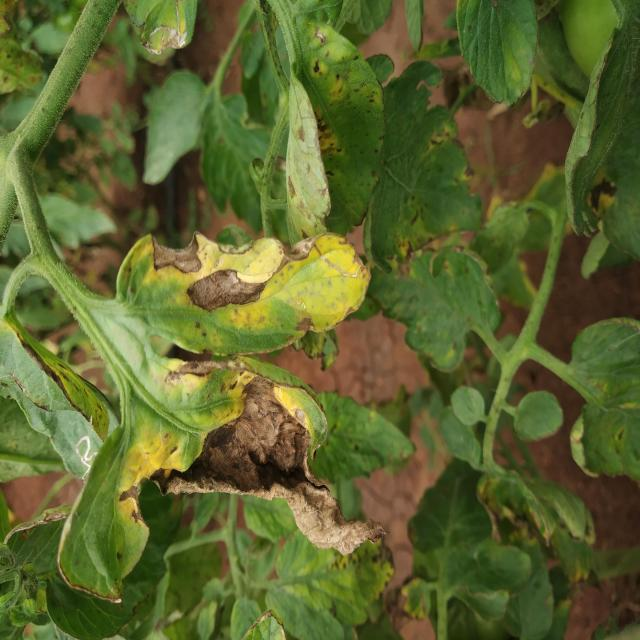Early Blight: (38, 57, 279, 393), (282, 117, 414, 373)
